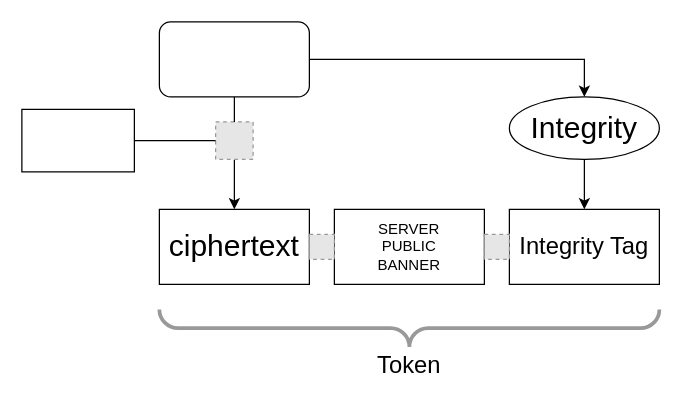
The diagram is 683 pixels wide and 406 high, and some of its shapes have lost their labels. Grey dashed boxes stand in for pictures. The shapes that lost their labels are listed below. From the top down, each one's centre as x and y in pixels, then its label:
At (x=233, y=59): "plaintext".
At (x=77, y=140): "E(k, IV)".
